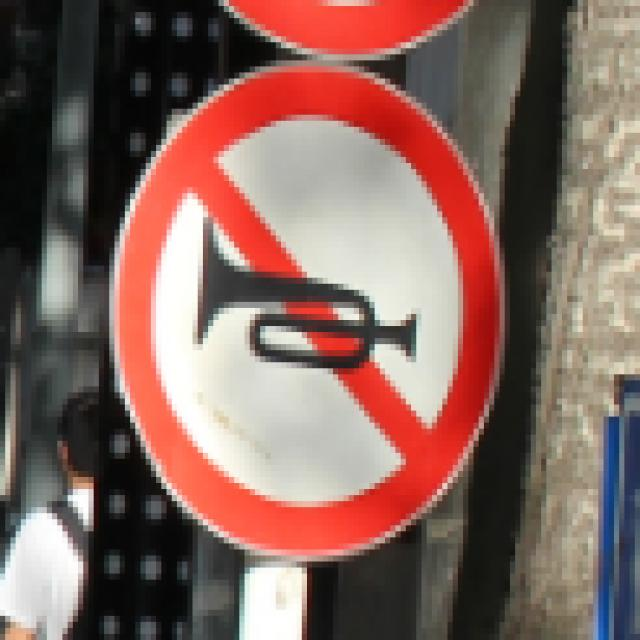No Horn: (102, 59, 510, 563)
